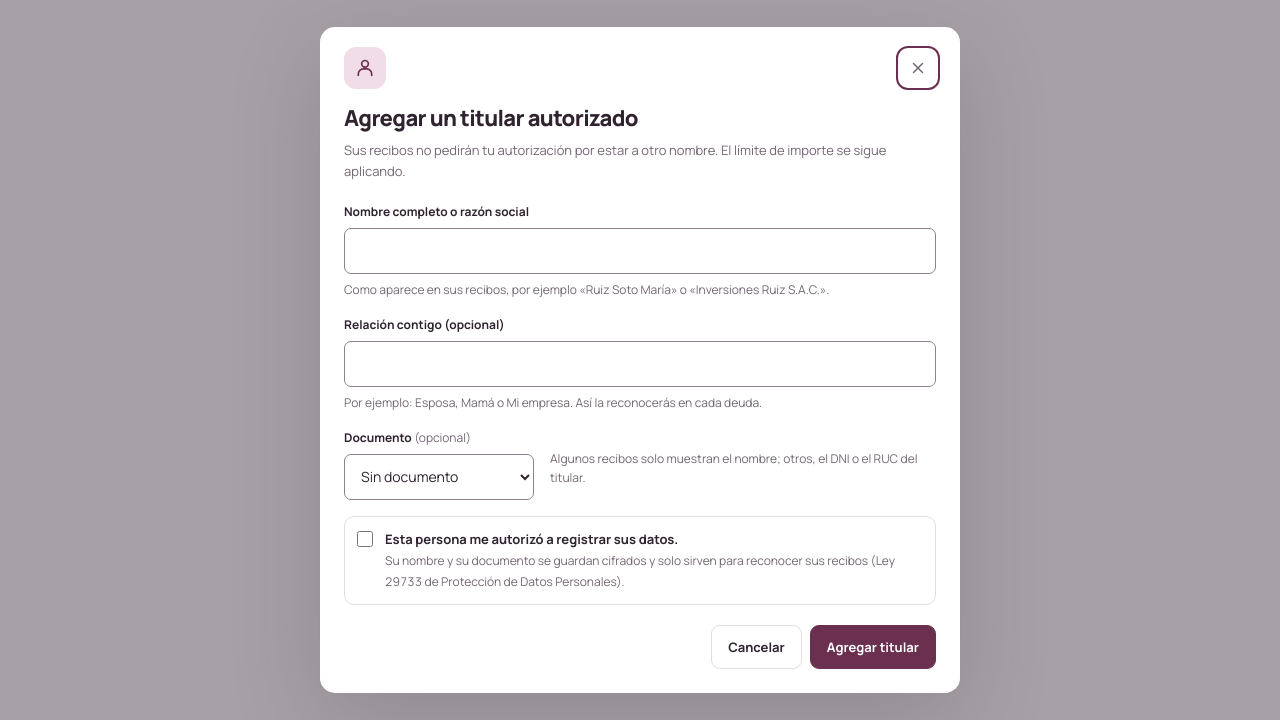
Test: DialogoTitular › muestra junto al campo por qué el backend lo rechazó
The width and height of the screenshot is (1280, 720).
In the field labelled "Nombre completo o razón social": (640, 251) [344,228,936,274], type "Valentina Ramos"
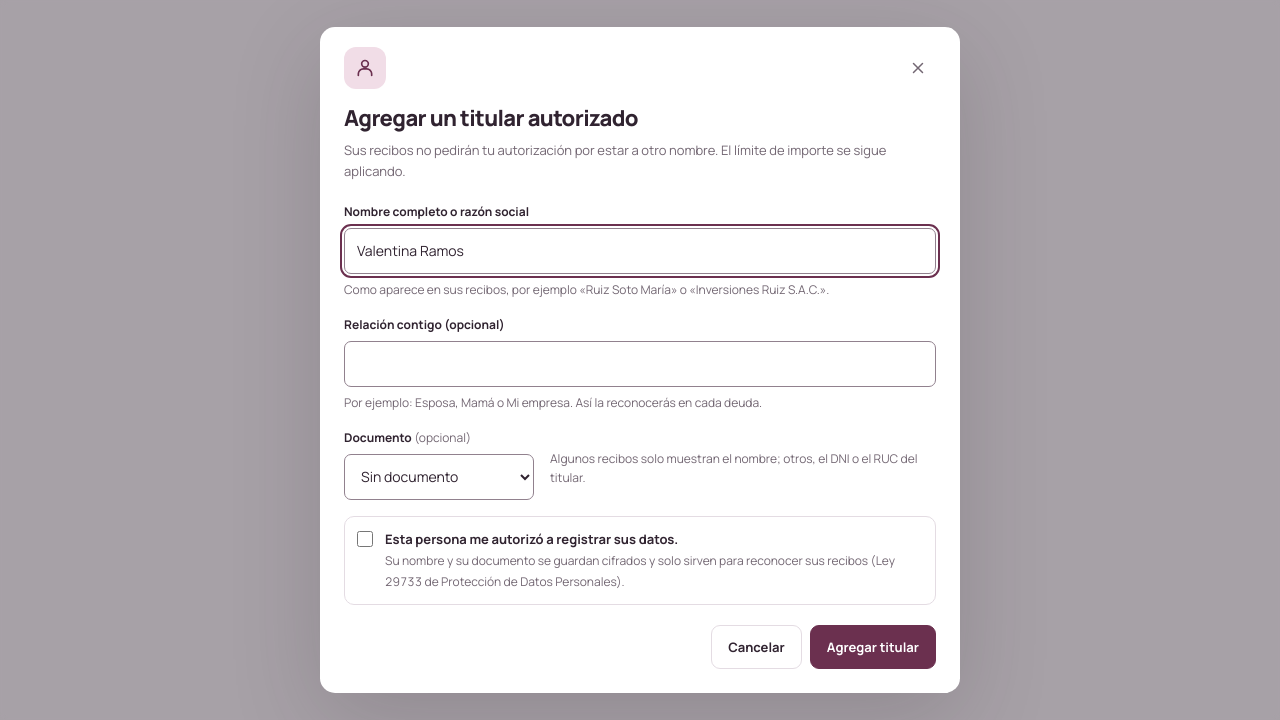
Select "DNI" in the dropdown labelled "Documento (opcional)": (439, 477) [344,454,534,500]
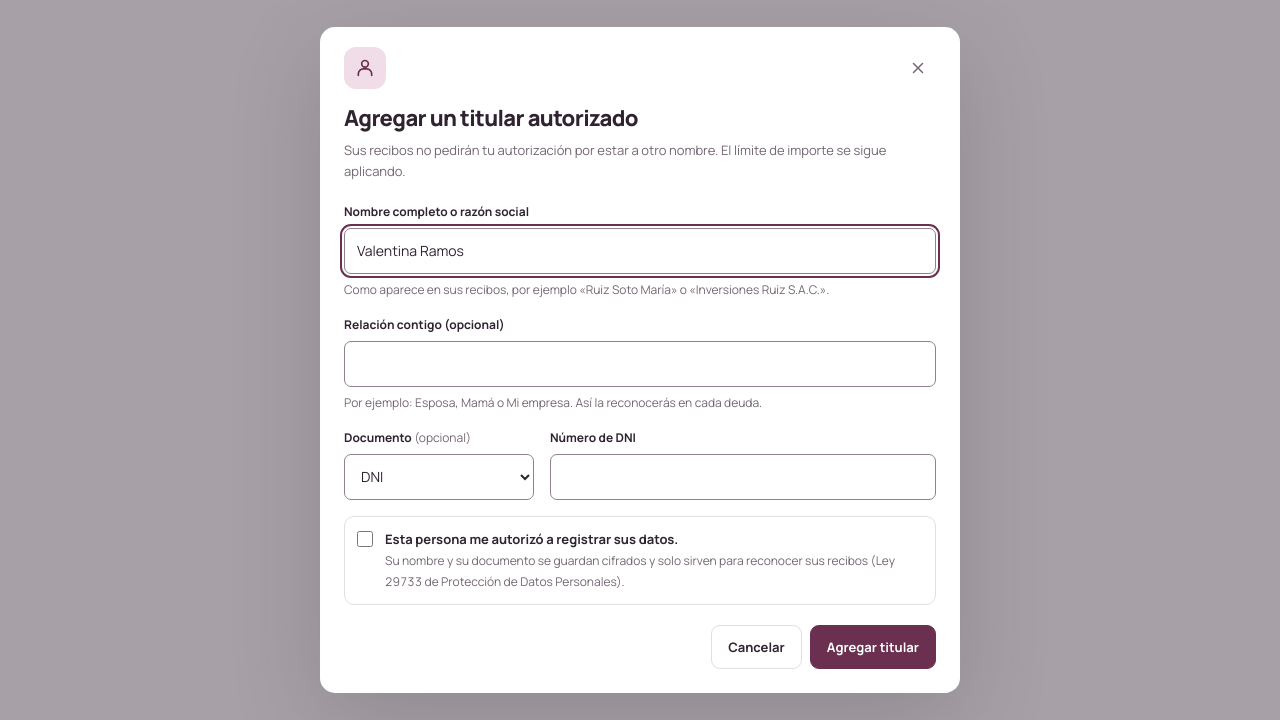
In the field labelled "Número de DNI": (743, 477) [550,454,936,500], type "45678912"
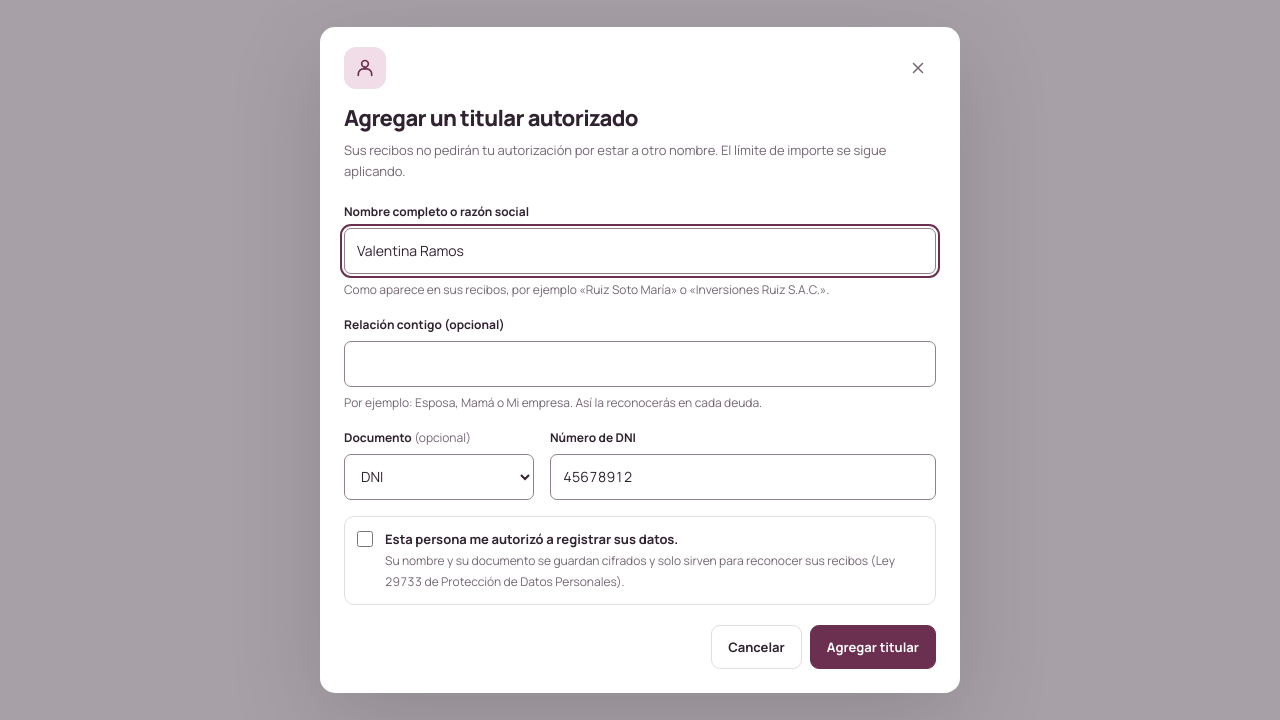
Click the checkbox: (365, 539) [357,531,373,547]
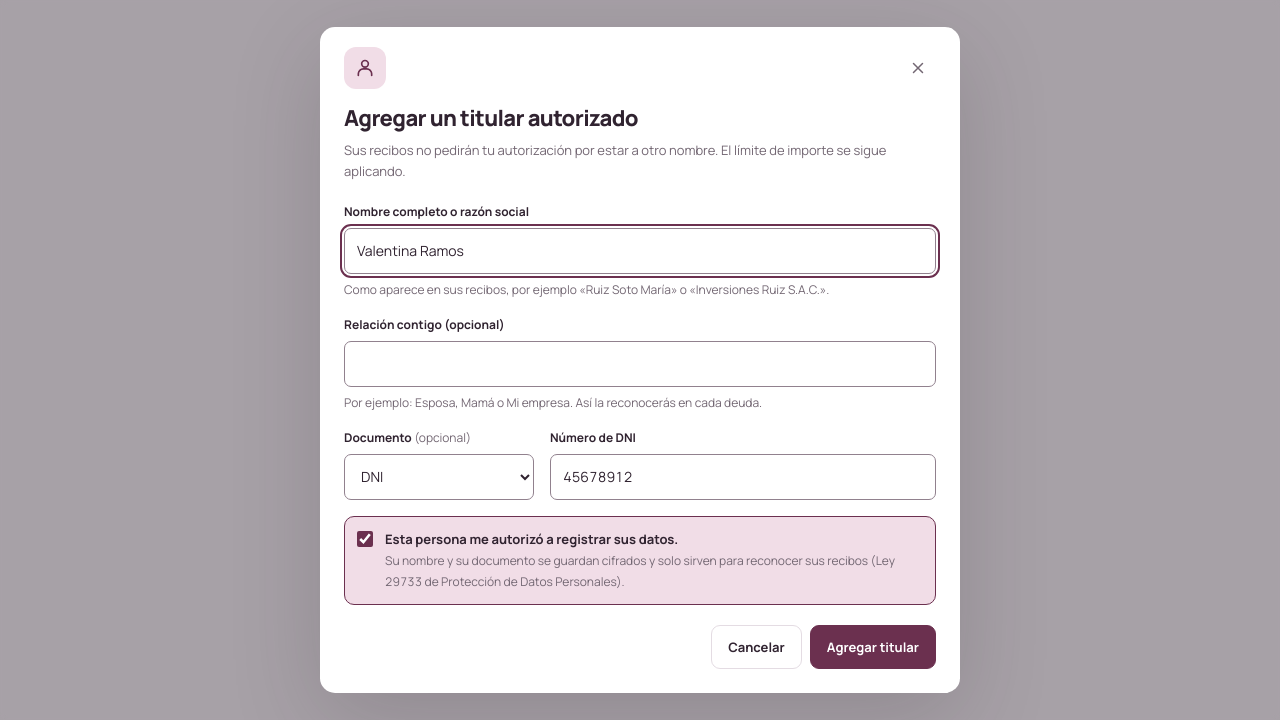
Submit the form, box [344,202,936,669]
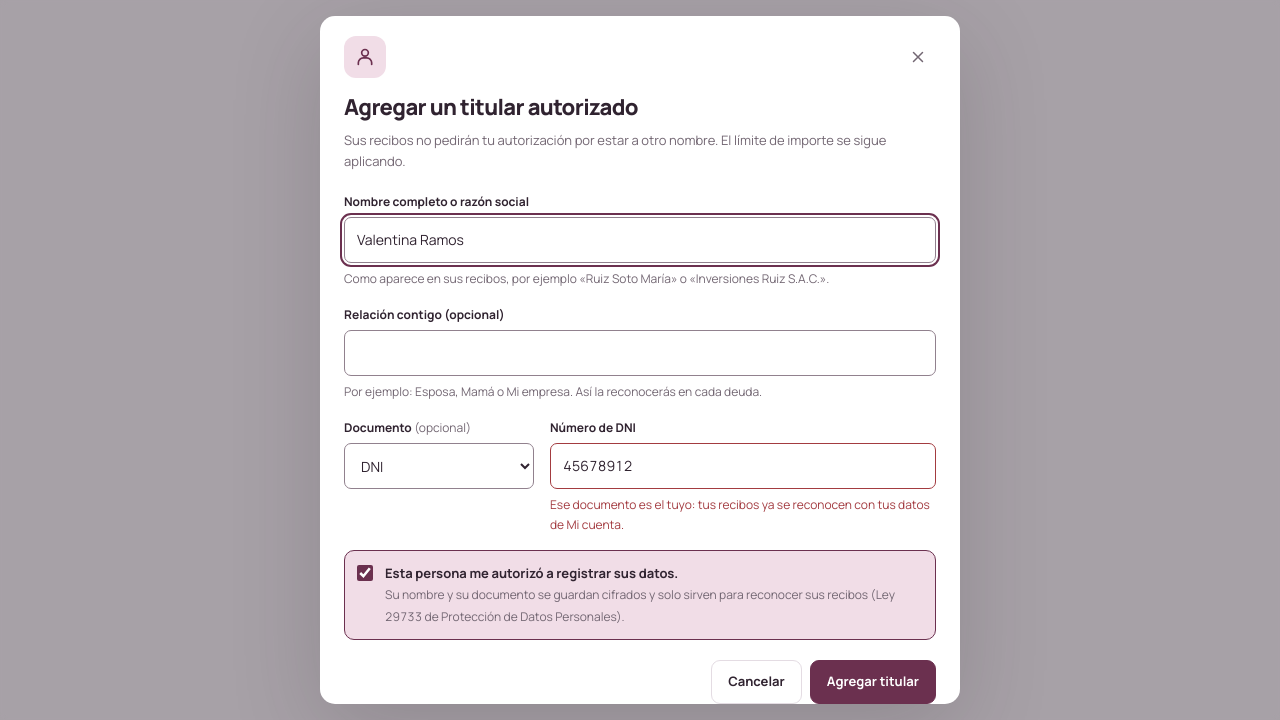
Expected: the text "Ese documento es el tuyo: tus recibos ya se reconocen con tus datos de Mi cuenta." is shown, [550,496,930,533]
